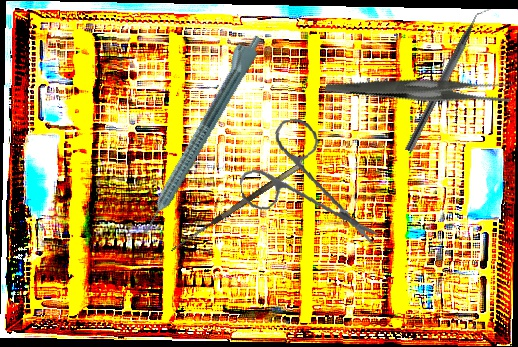Chopper: (404, 1, 494, 158)
Dressing Forceps: (324, 23, 516, 153)
Handpiece: (130, 28, 266, 237)
Hook Surgical: (168, 161, 310, 259)
Iris Scissors: (233, 110, 379, 260)
